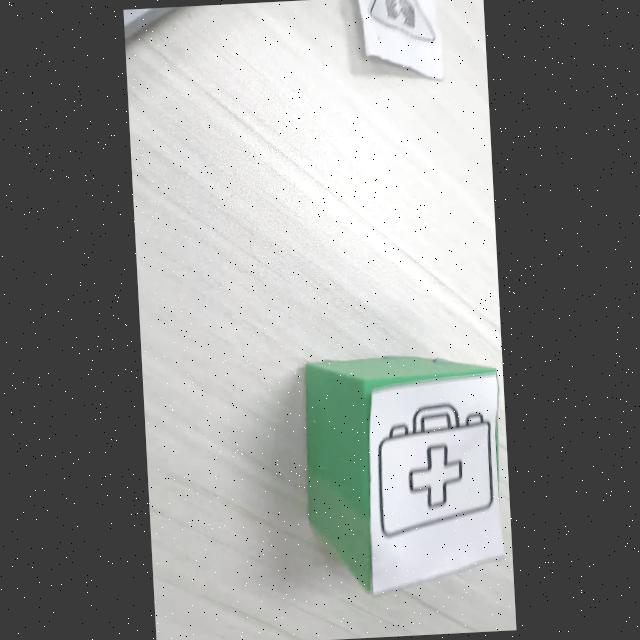Medkit: (377, 405, 493, 538)
